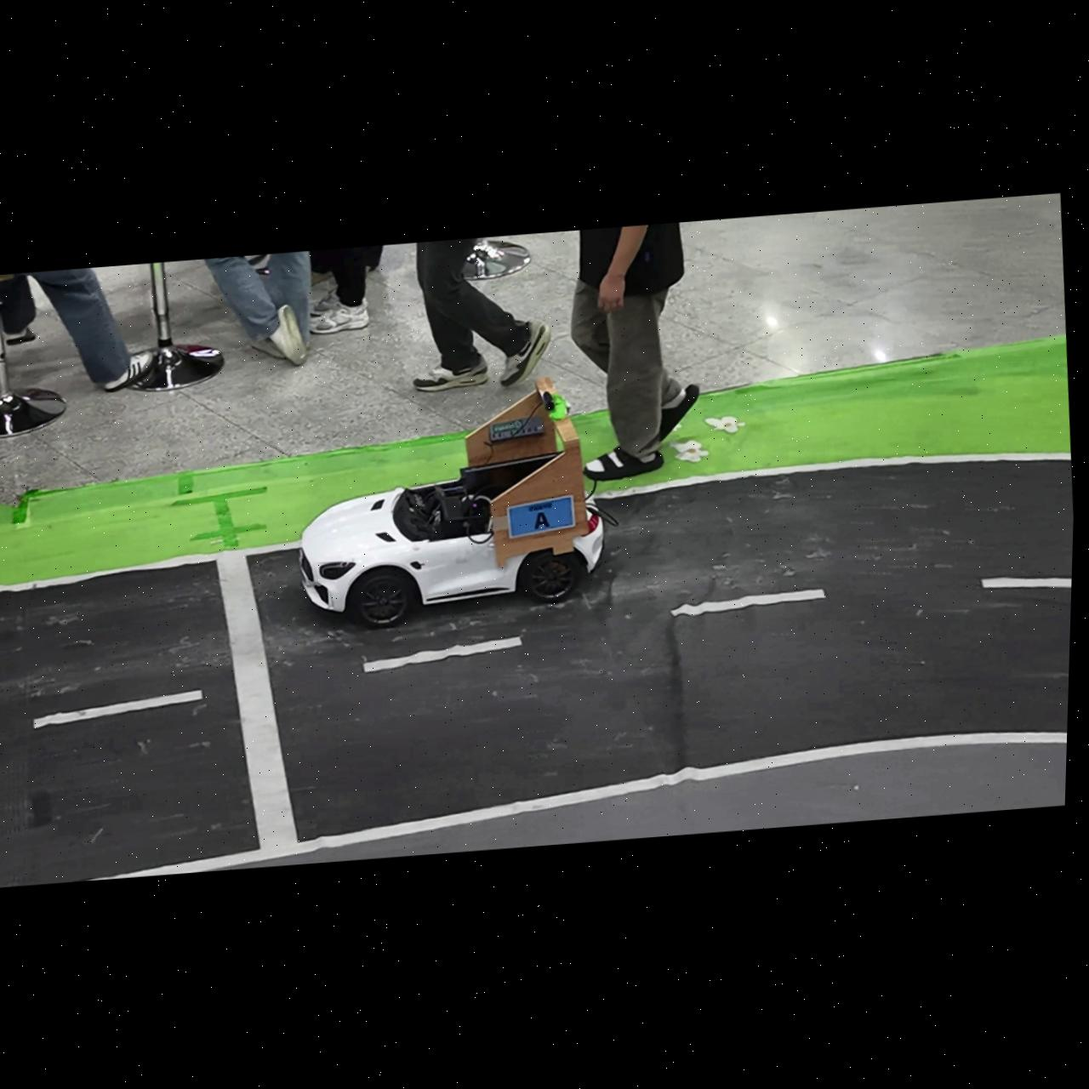broken_line: (34, 690, 202, 728), (363, 636, 522, 672), (670, 589, 827, 617), (982, 578, 1072, 588)
